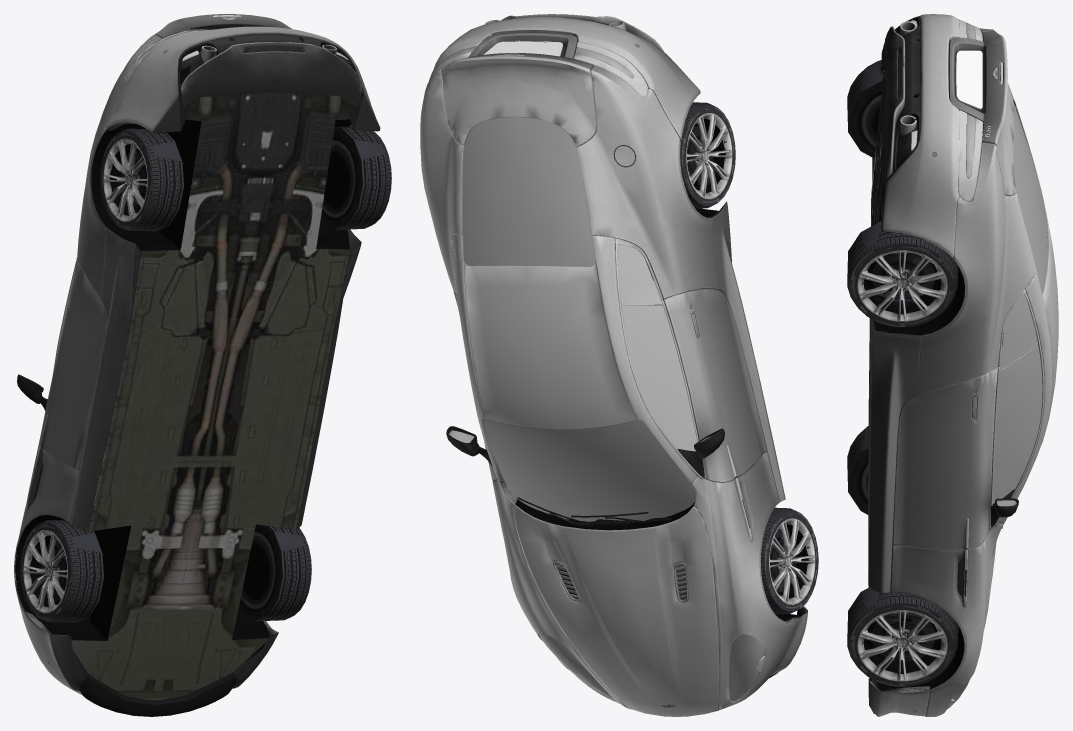
File: vehicle-desktop-v2.glb
3 views of the same model, side by side, from view 1: azimuth 30°, elevation 25°; view 2: azimuth 150°, elevation 25°; view 3: azimuth 270°, elevation 25° (orthographic). The views are drawn at different scales.
Parts seen in each view (by area): view 1: vehicle-detail-0; view 2: vehicle-detail-0; view 3: vehicle-detail-0.
Boxes of the visible parts, x1=… form: vehicle-detail-0: x1=14, y1=14, x2=391, y2=716; vehicle-detail-0: x1=420, y1=14, x2=818, y2=716; vehicle-detail-0: x1=847, y1=14, x2=1058, y2=716.
Size of the model in its own units: 17.6 by 31.94 by 8.74.
7 materials, 4 textured.
